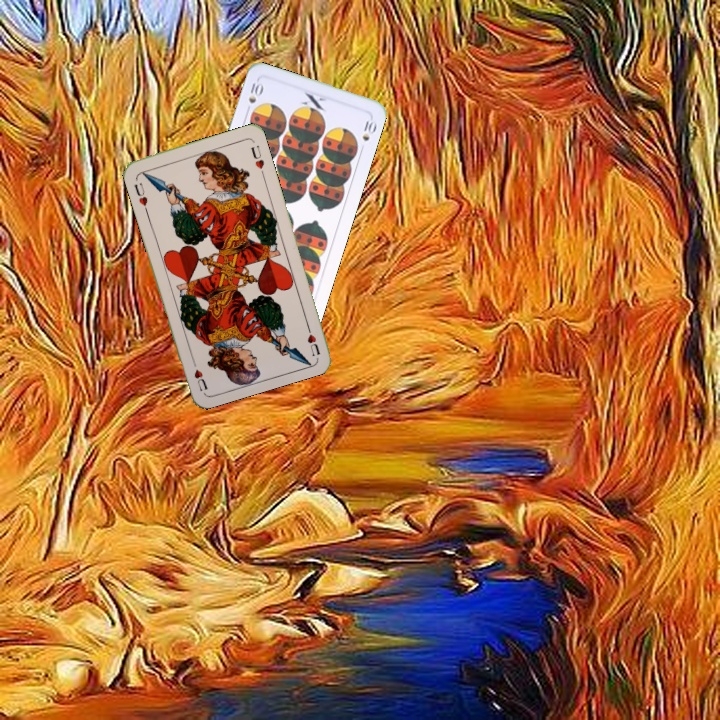HU: (302, 319, 323, 359), (130, 179, 150, 209)
S10: (242, 76, 265, 116)
